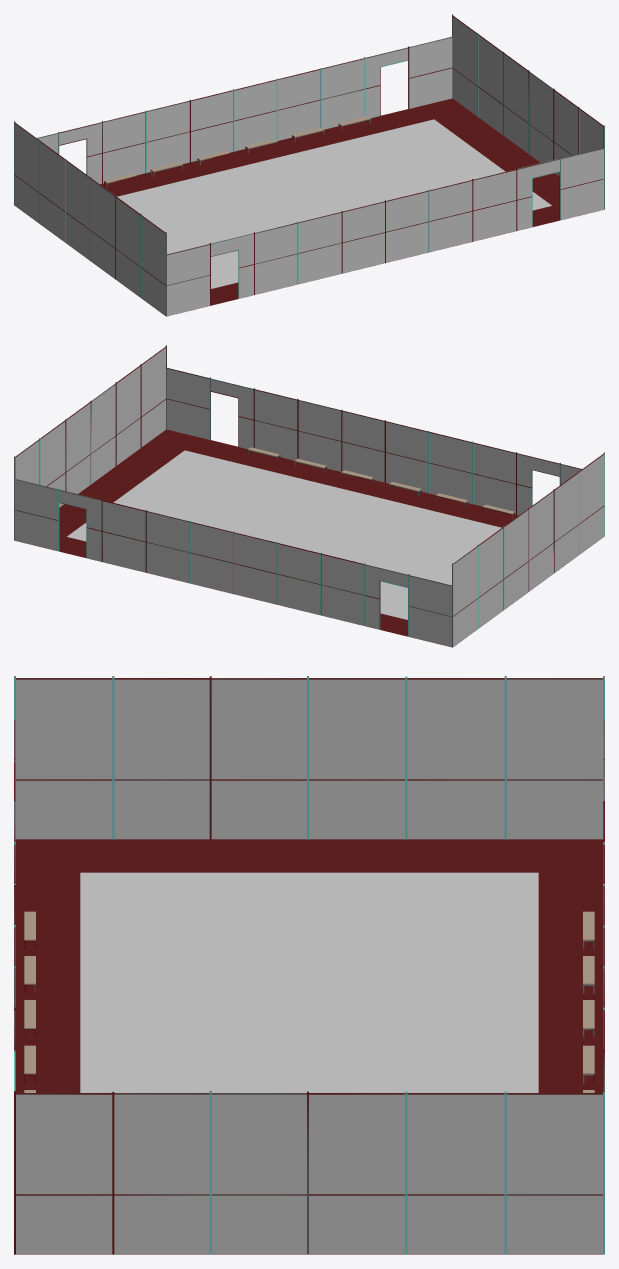
The model's file is SM_FootballField_v01.FBX.
The picture shows the model from 3 angles, top to bottom: view 1: azimuth 30°, elevation 25°; view 2: azimuth 150°, elevation 25°; view 3: azimuth 270°, elevation 25°; orthographic projection. The views are drawn at different scales.
Parts seen in each view (by area): view 1: FootballField_v01; view 2: FootballField_v01; view 3: FootballField_v01.
Part boxes in pixels (box(x1,y1,x2,y2)): FootballField_v01: box(14, 14, 604, 316); FootballField_v01: box(14, 345, 604, 647); FootballField_v01: box(14, 676, 604, 1254).
Bounding box in the file's own units: 37.4 × 6.83 × 22.48.
